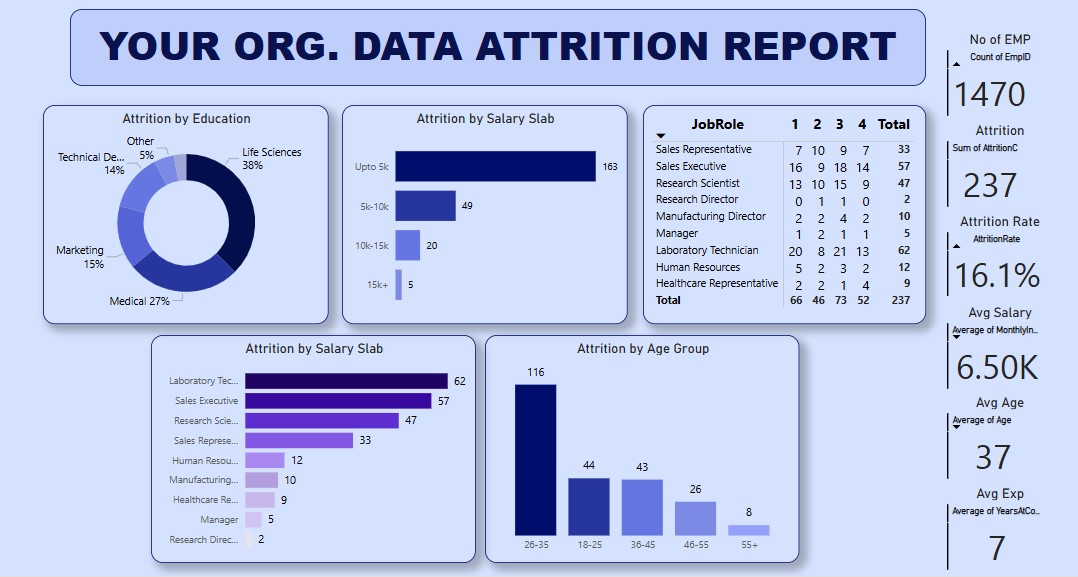

The page's visual inventory and layout, read from the dashboard file:
{"tool":"powerbi","page":{"name":"Attrition","canvas":[1280,720],"ordinal":0},"visuals":[{"type":"tableEx","title":"No of EMP","fields":{"Values":["HR_Analytics.EmpID"]},"box":[1133.9,38.8,145.2,113.5],"z":0},{"type":"tableEx","title":"Attrition","fields":{"Values":["Sum(HR_Analytics.AttritionC)"]},"box":[1133.4,152.3,145.2,113.5],"z":1000},{"type":"tableEx","title":"Attrition Rate","fields":{"Values":["HR_Analytics.AttritionRate"]},"box":[1133.4,265.9,145.2,113.5],"z":2000},{"type":"tableEx","title":"Avg Age","fields":{"Values":["Avg(HR_Analytics.Age)"]},"box":[1133.4,492.9,145.2,113.5],"z":3000},{"type":"tableEx","title":"Avg Exp","fields":{"Values":["Avg(HR_Analytics.YearsAtCompany)"]},"box":[1133.4,606.5,145.2,113.5],"z":4000},{"type":"tableEx","title":"Avg Salary","fields":{"Values":["Avg(HR_Analytics.MonthlyIncome)"]},"box":[1133.4,379.4,145.2,113.5],"z":5000},{"type":"donutChart","title":"Attrition by Education","fields":{"Category":["HR_Analytics.EducationField"],"Y":["Sum(HR_Analytics.AttritionC)"]},"box":[10,130.8,356.7,274.4],"z":6000},{"type":"columnChart","title":"Attrition by Age Group","fields":{"Category":["HR_Analytics.AgeGroup"],"Y":["Sum(HR_Analytics.AttritionC)"]},"box":[562.7,418.3,393.3,284.9],"z":7000},{"type":"pivotTable","fields":{"Rows":["HR_Analytics.JobRole"],"Columns":["HR_Analytics.JobSatisfaction"],"Values":["Sum(HR_Analytics.AttritionC)"]},"box":[760,130.8,354.1,274.4],"z":8000},{"type":"clusteredBarChart","title":"Attrition by Salary Slab","fields":{"Category":["HR_Analytics.SalarySlab"],"Y":["Sum(HR_Analytics.AttritionC)"]},"box":[383.7,130.8,356.7,274.4],"z":9000},{"type":"textbox","box":[44.3,11.4,1070,95.7],"z":10000},{"type":"clusteredBarChart","title":"Attrition by Salary Slab","fields":{"Y":["Sum(HR_Analytics.AttritionC)"],"Category":["HR_Analytics.JobRole"]},"box":[144.6,418.3,406.4,284.9],"z":11000}]}

Visuals, with their boxes in screenshot pixels (x1, y1, x2, y2):
"No of EMP" tableEx: x1=828 y1=31 x2=943 y2=121
"Attrition" tableEx: x1=828 y1=121 x2=943 y2=211
"Attrition Rate" tableEx: x1=828 y1=211 x2=943 y2=301
"Avg Age" tableEx: x1=828 y1=390 x2=943 y2=480
"Avg Exp" tableEx: x1=828 y1=480 x2=943 y2=570
"Avg Salary" tableEx: x1=828 y1=301 x2=943 y2=390
"Attrition by Education" donutChart: x1=0 y1=104 x2=220 y2=321
"Attrition by Age Group" columnChart: x1=376 y1=331 x2=687 y2=557
pivotTable - HR_Analytics.JobRole x HR_Analytics.JobSatisfaction: x1=532 y1=104 x2=812 y2=321
"Attrition by Salary Slab" clusteredBarChart: x1=234 y1=104 x2=516 y2=321
textbox: x1=0 y1=9 x2=812 y2=85
"Attrition by Salary Slab" clusteredBarChart: x1=44 y1=331 x2=366 y2=557
